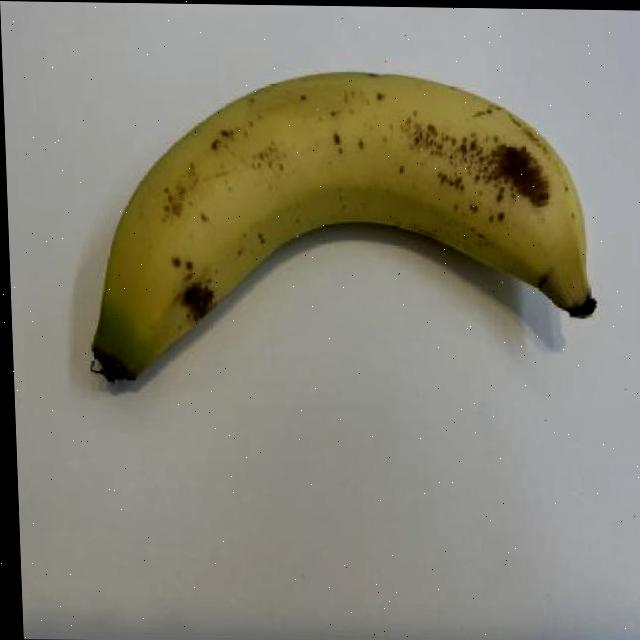banana: (81, 62, 601, 390)
